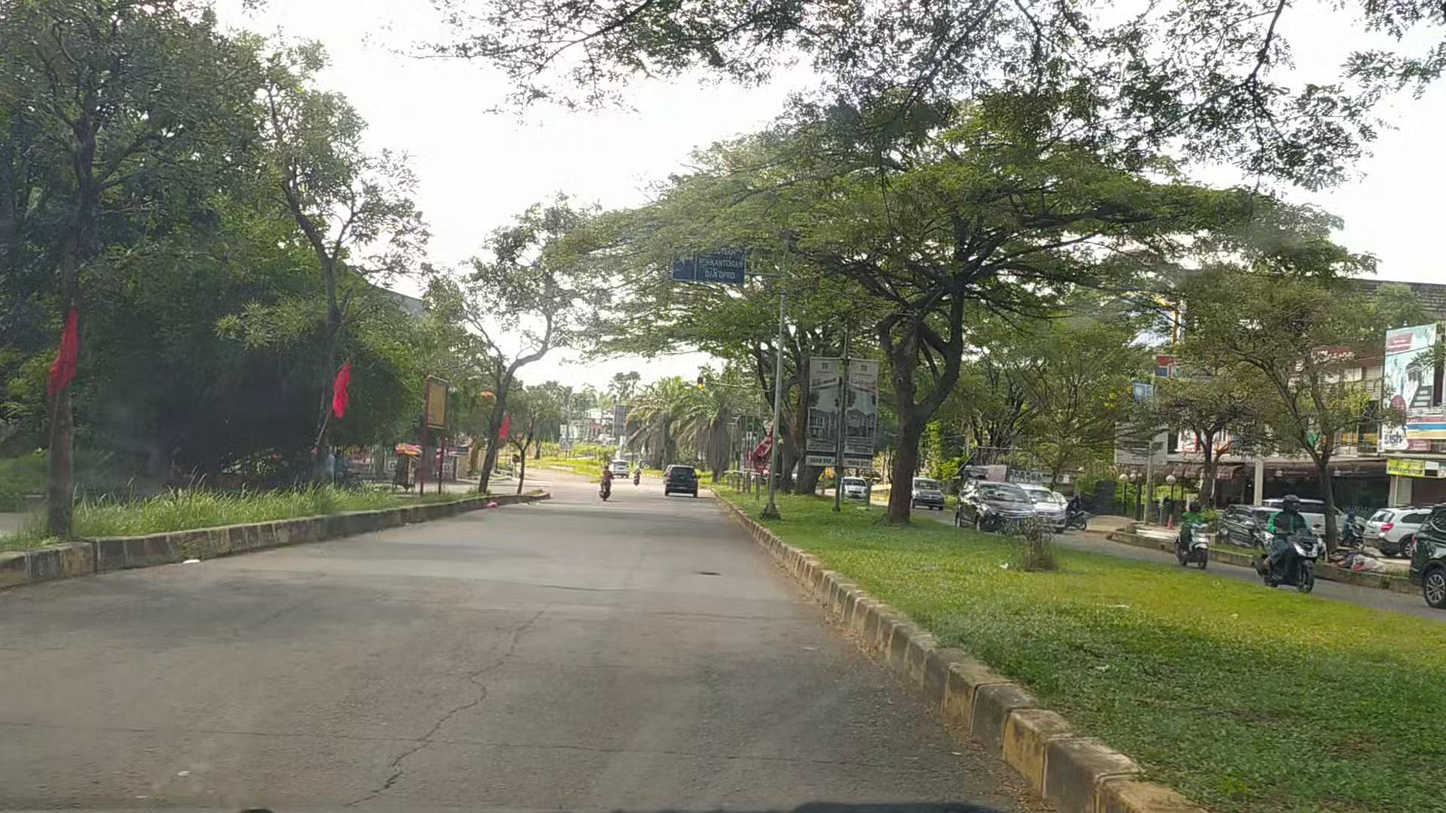pothole: (696, 571, 724, 576)
